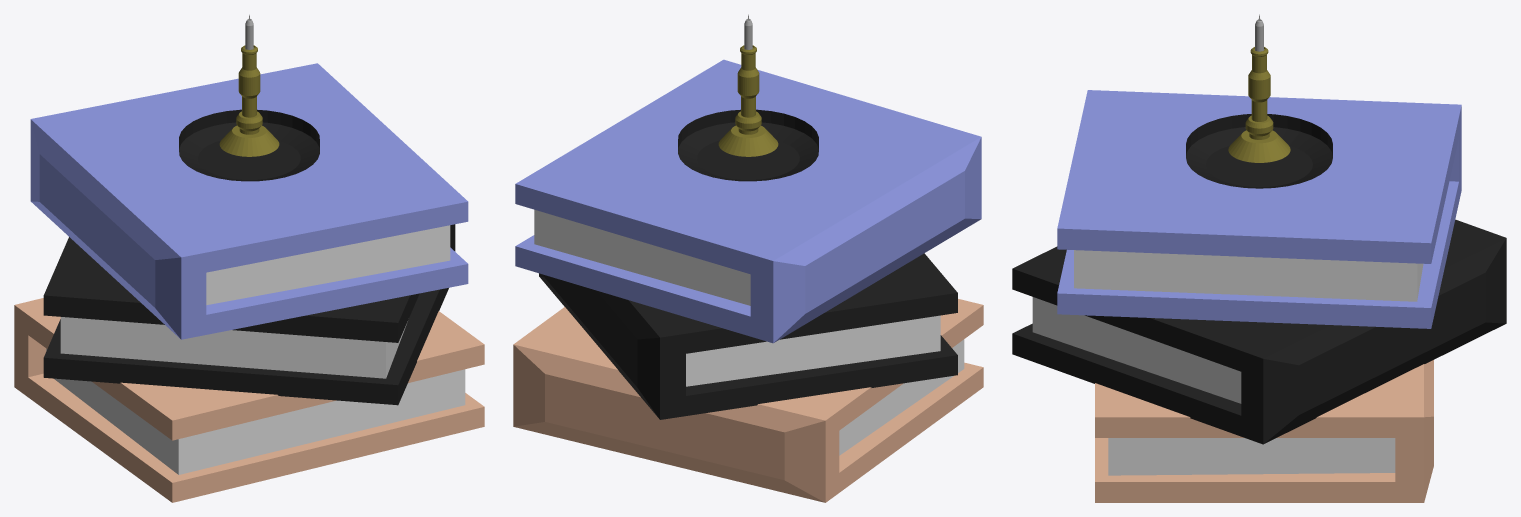
File: EvelynDecorV1.fbx
3 renders of one model, left to right at view 1: azimuth 30°, elevation 25°; view 2: azimuth 150°, elevation 25°; view 3: azimuth 270°, elevation 25°, orthographic. The views are drawn at different scales.
Parts seen in each view (by area): view 1: Decorations; view 2: Decorations; view 3: Decorations.
Part boxes in pixels (bbox=[...]): Decorations: bbox=[14, 14, 484, 502]; Decorations: bbox=[513, 14, 983, 502]; Decorations: bbox=[1012, 14, 1506, 502].
Size of the model in its own units: 166 by 168 by 152.
